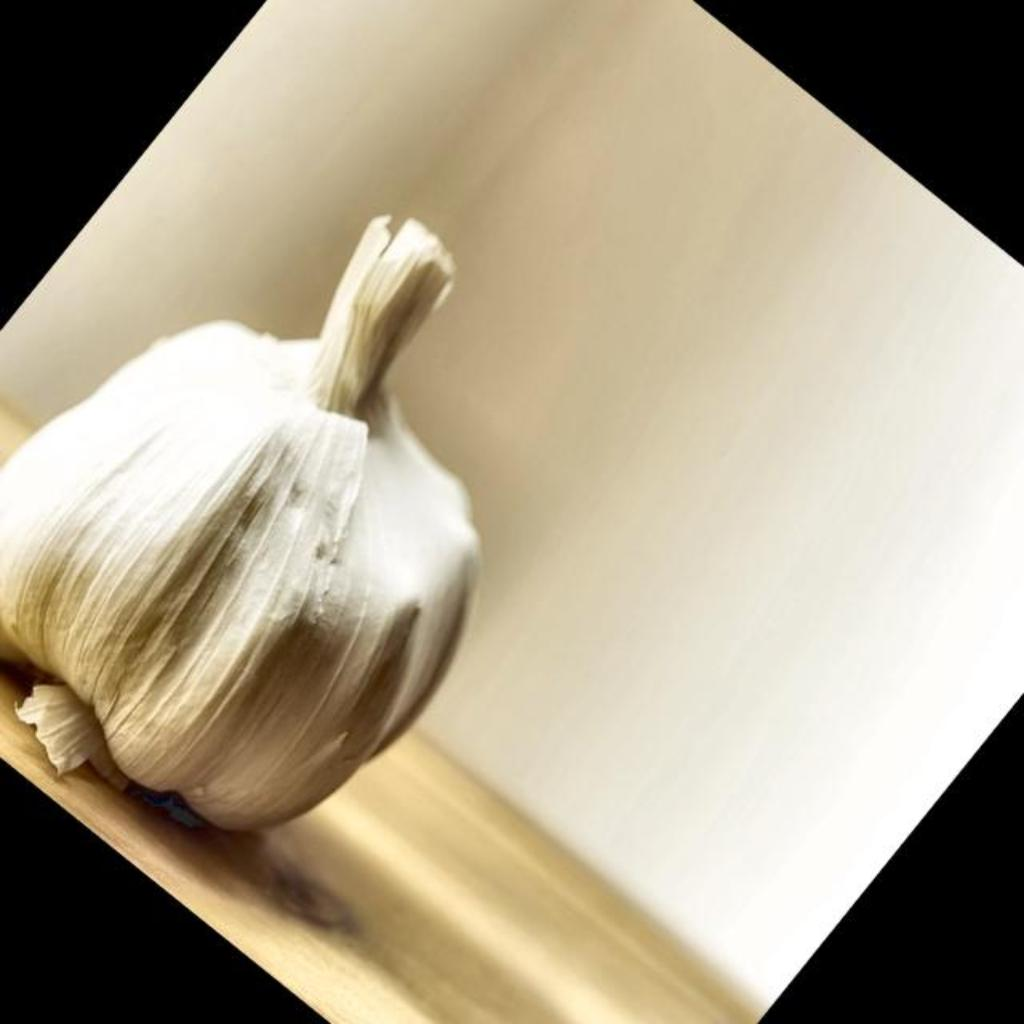garlic: (0, 218, 478, 827)
